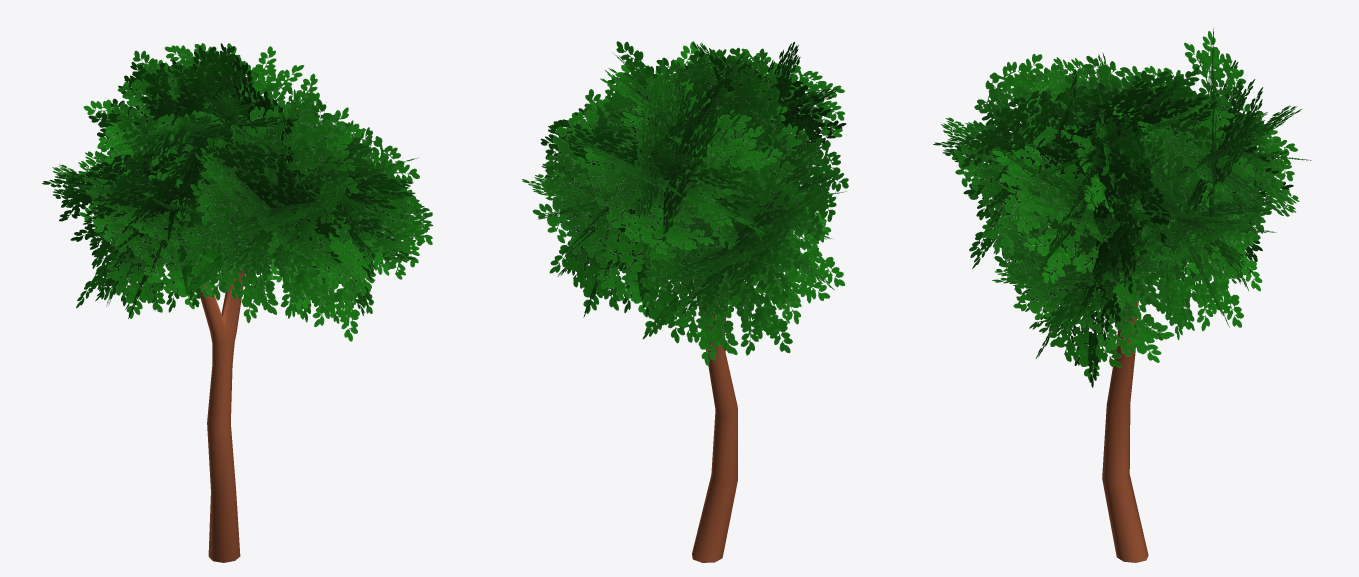
The model's file is tree_1.dae.
3 renders of one model, left to right at view 1: azimuth 30°, elevation 25°; view 2: azimuth 150°, elevation 25°; view 3: azimuth 270°, elevation 25°, orthographic. The views are drawn at different scales.
Visible parts, largest first — view 1: tree_1; view 2: tree_1; view 3: tree_1.
Part boxes in pixels (x1,y1,x2,y2): tree_1: (42, 43, 433, 562); tree_1: (522, 41, 848, 562); tree_1: (933, 28, 1311, 562).
Size of the model in its own units: 5.35 by 5.42 by 7.15.
Materials: 1 (1 with a texture image).
